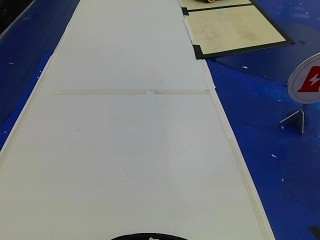battery: (292, 51, 320, 106)
